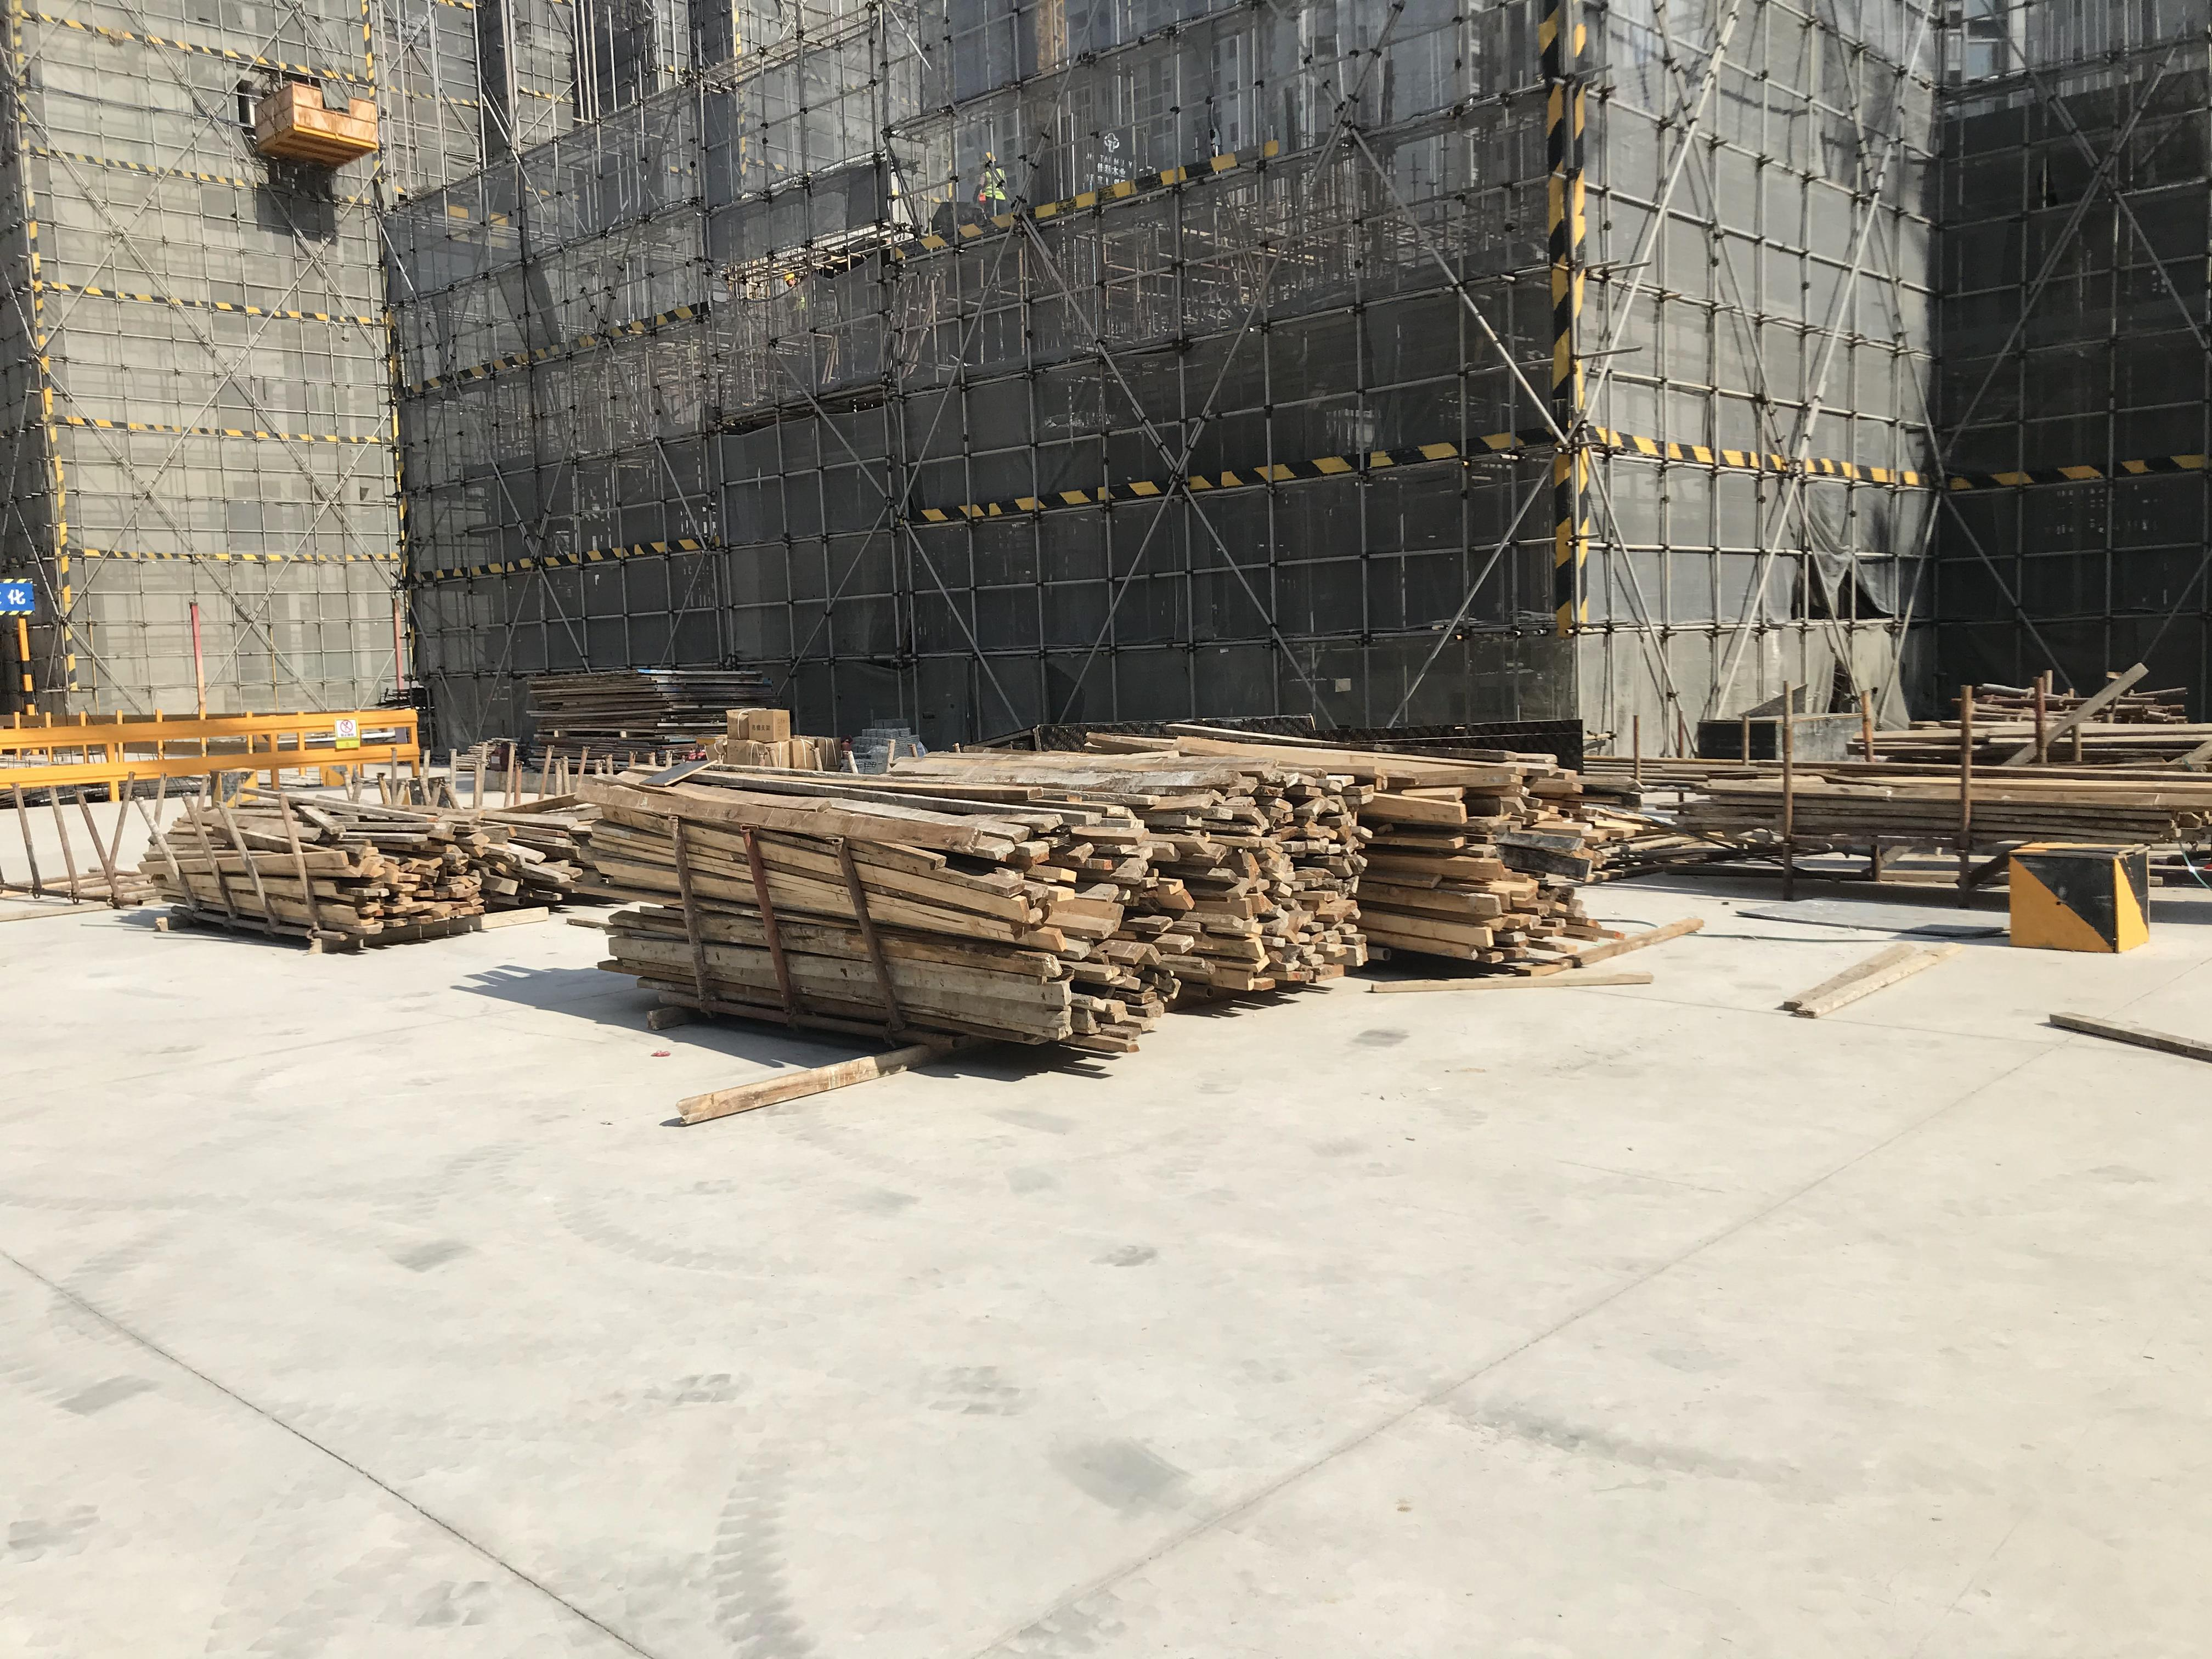board: (526, 671, 784, 770)
wood: (597, 742, 1371, 1054), (1360, 744, 1627, 964), (136, 791, 514, 941), (493, 795, 603, 901)
